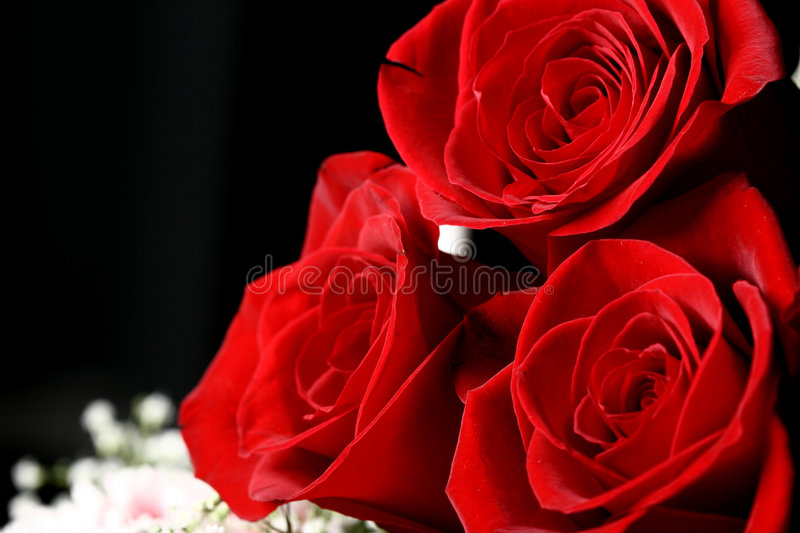RedRose: (368, 7, 800, 246), (228, 135, 480, 533), (493, 227, 800, 533)
